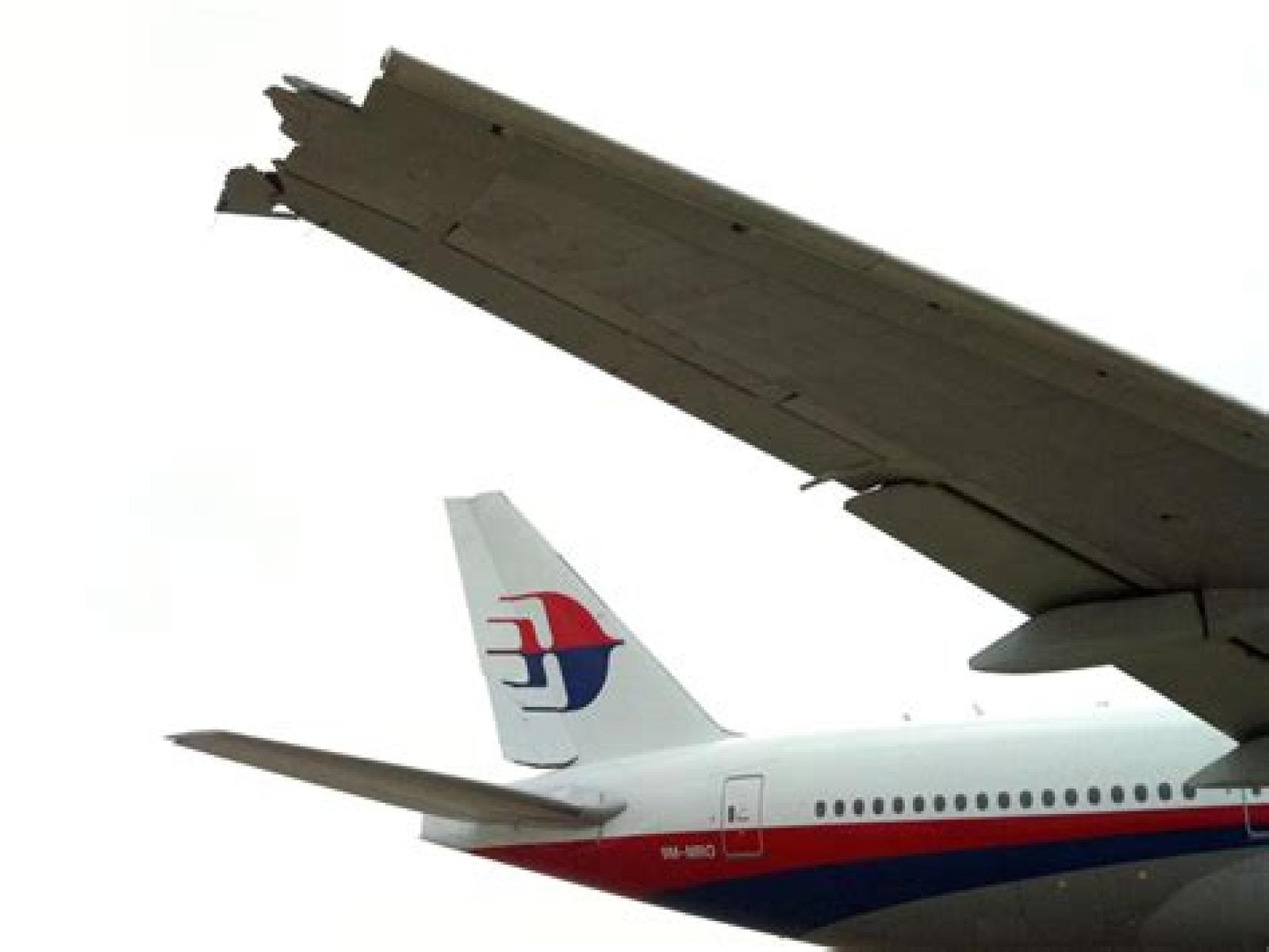Wing_damage: (214, 84, 292, 214), (265, 76, 359, 141), (217, 163, 292, 214), (284, 73, 356, 107)
